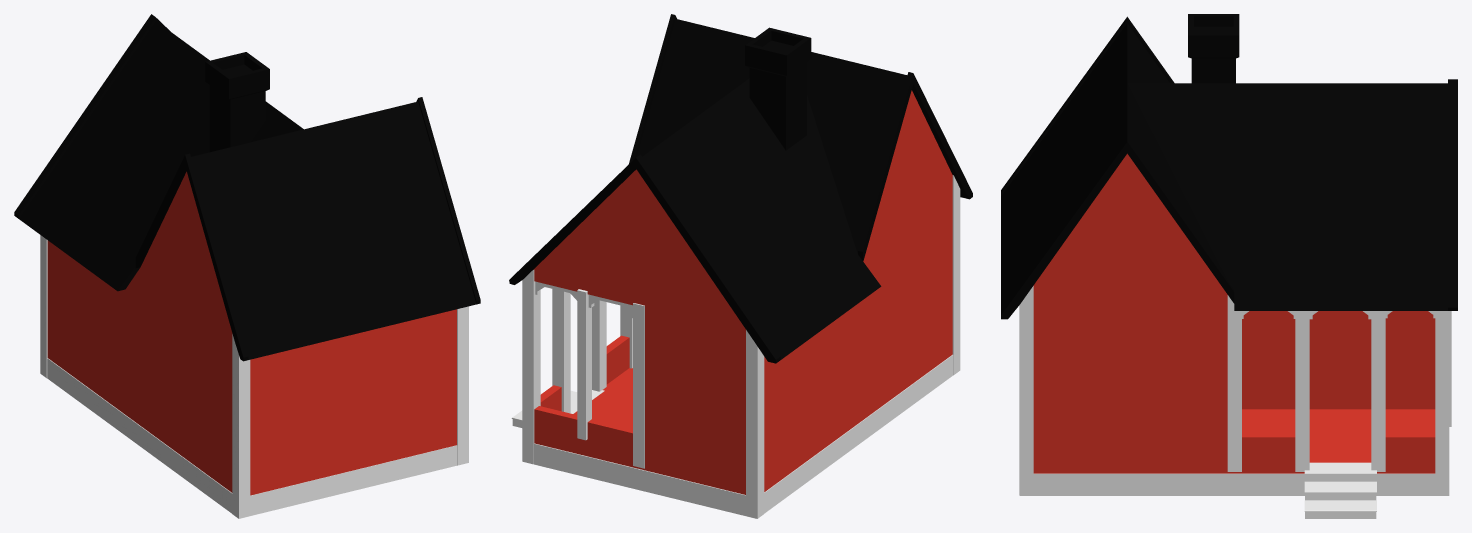
The model's file is House.fbx.
3 views of the same model, side by side, from view 1: azimuth 30°, elevation 25°; view 2: azimuth 150°, elevation 25°; view 3: azimuth 270°, elevation 25° (orthographic). The views are drawn at different scales.
Visible parts, largest first — view 1: House; view 2: House; view 3: House.
Part boxes in pixels (left/top/right/bottom): House: left=14, top=14, right=480, bottom=518; House: left=509, top=14, right=972, bottom=518; House: left=1001, top=14, right=1457, bottom=518.
Size of the model in its own units: 260 by 307 by 320.
